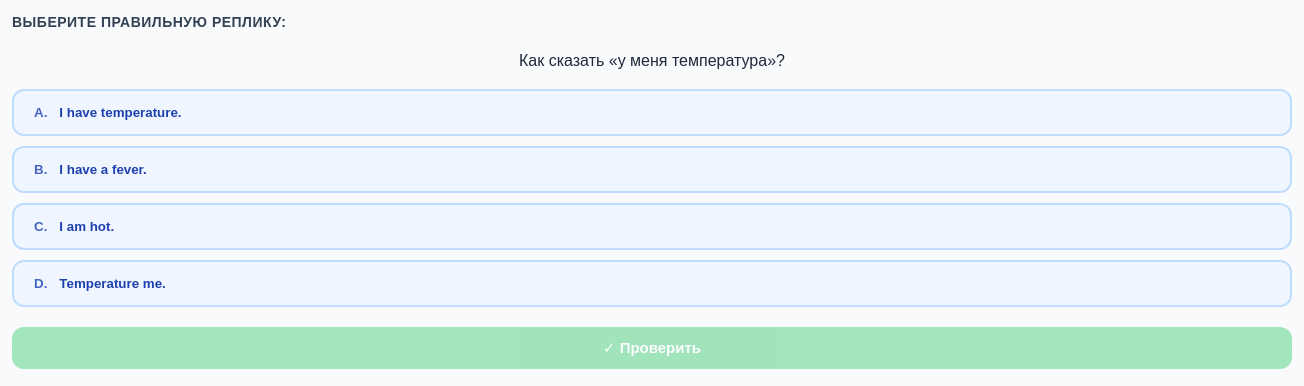
it: MultipleChoiceTask › кнопка "Проверить" активируется после выбора
The image size is (1304, 386).
What coordinates should you click on to do the following:
click the button with class "option-btn" showing "A. I have temperature."
I would click on:
 (120, 112)
Its box is [12,89,1292,136].
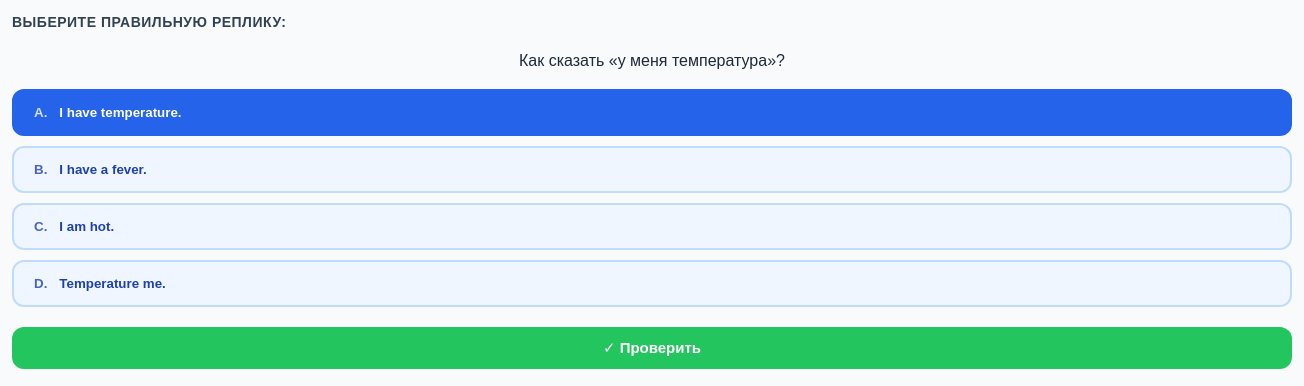
Check: the button with class "task__check-btn" is enabled, box [12,327,1292,369]
